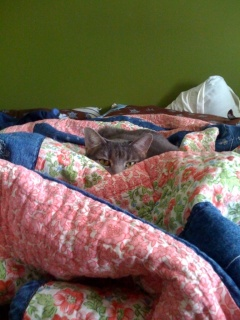Cat: (80, 125, 179, 176)
